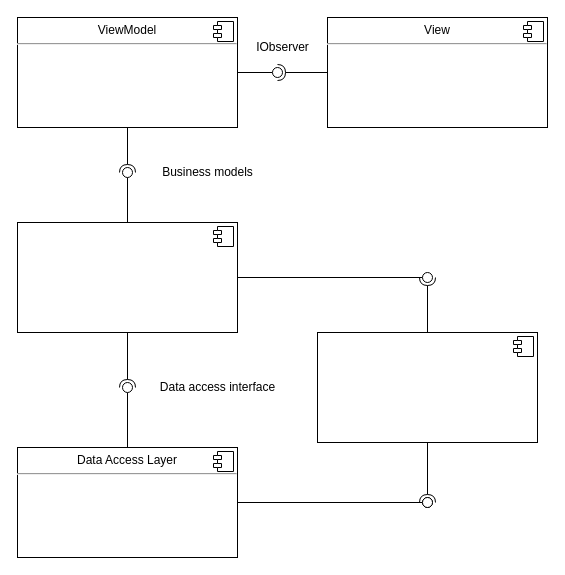
Image size: 565x575. Some labels were removed from this diagram. The shapes that lost their labels are listed below. From the top down, each one's centre as x and y in pixels, then its label:
At point 127,277: "Model".
At point 427,387: "BusinessSpecification".
